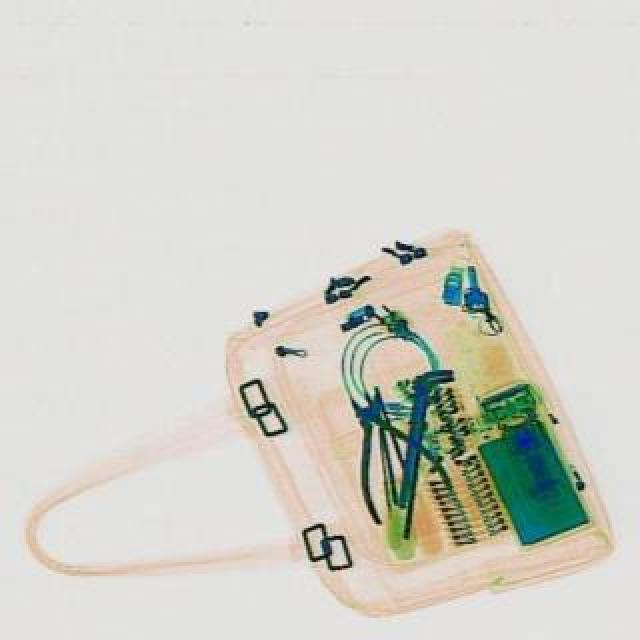wrench: (310, 372, 456, 526)
